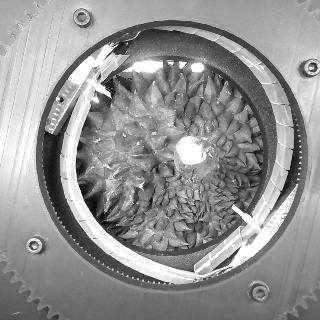base: (174, 144, 221, 171)
end: (175, 135, 207, 165)
